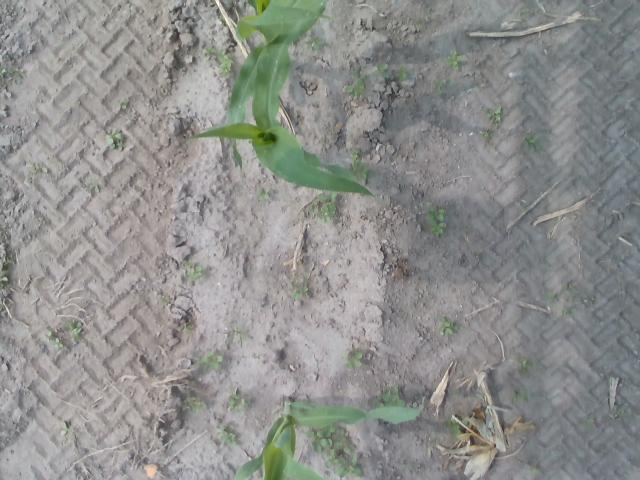Maize: (190, 0, 374, 195), (233, 398, 423, 480), (226, 0, 284, 169)
Weeds: (328, 430, 366, 478), (308, 430, 334, 452), (378, 385, 403, 405), (425, 205, 446, 224), (314, 203, 336, 221), (216, 50, 232, 74), (230, 394, 251, 412), (200, 354, 223, 370), (448, 49, 467, 68), (1, 258, 14, 285), (305, 29, 323, 48), (345, 79, 364, 97), (217, 429, 237, 446), (344, 351, 364, 368), (183, 396, 206, 410), (510, 386, 528, 403), (440, 318, 457, 336), (106, 128, 122, 147), (487, 107, 504, 123), (181, 262, 200, 276), (446, 418, 461, 434), (68, 320, 85, 334), (46, 329, 61, 344), (257, 187, 275, 199), (293, 280, 307, 295), (30, 164, 48, 175), (564, 280, 578, 294), (562, 304, 575, 319), (375, 64, 390, 77), (393, 68, 408, 80), (203, 44, 215, 59), (527, 134, 540, 147), (431, 224, 446, 235), (356, 162, 366, 178), (345, 153, 359, 164), (120, 96, 130, 110), (90, 182, 104, 192), (547, 290, 557, 304), (520, 358, 530, 371), (163, 296, 176, 306), (480, 128, 492, 138), (186, 318, 196, 328)
